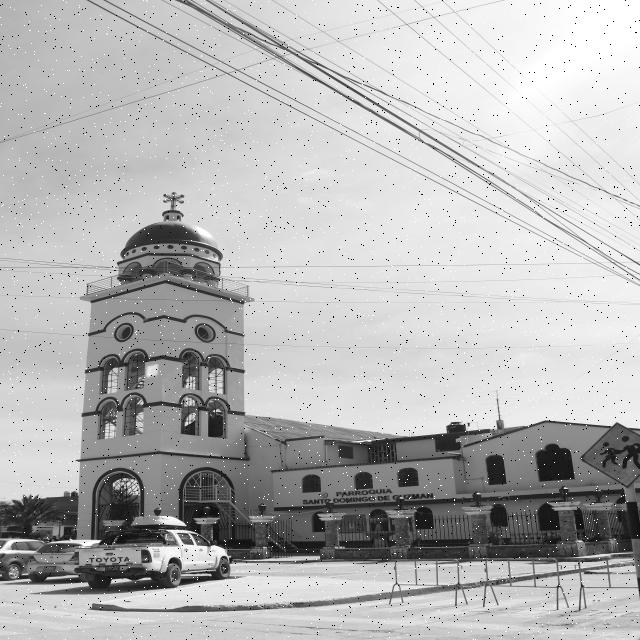CAMPANARIO: (71, 280, 248, 451)
CUPULA: (109, 180, 248, 294)
TORRES: (60, 169, 270, 549)
colonial-architecture-: (39, 133, 640, 580)
